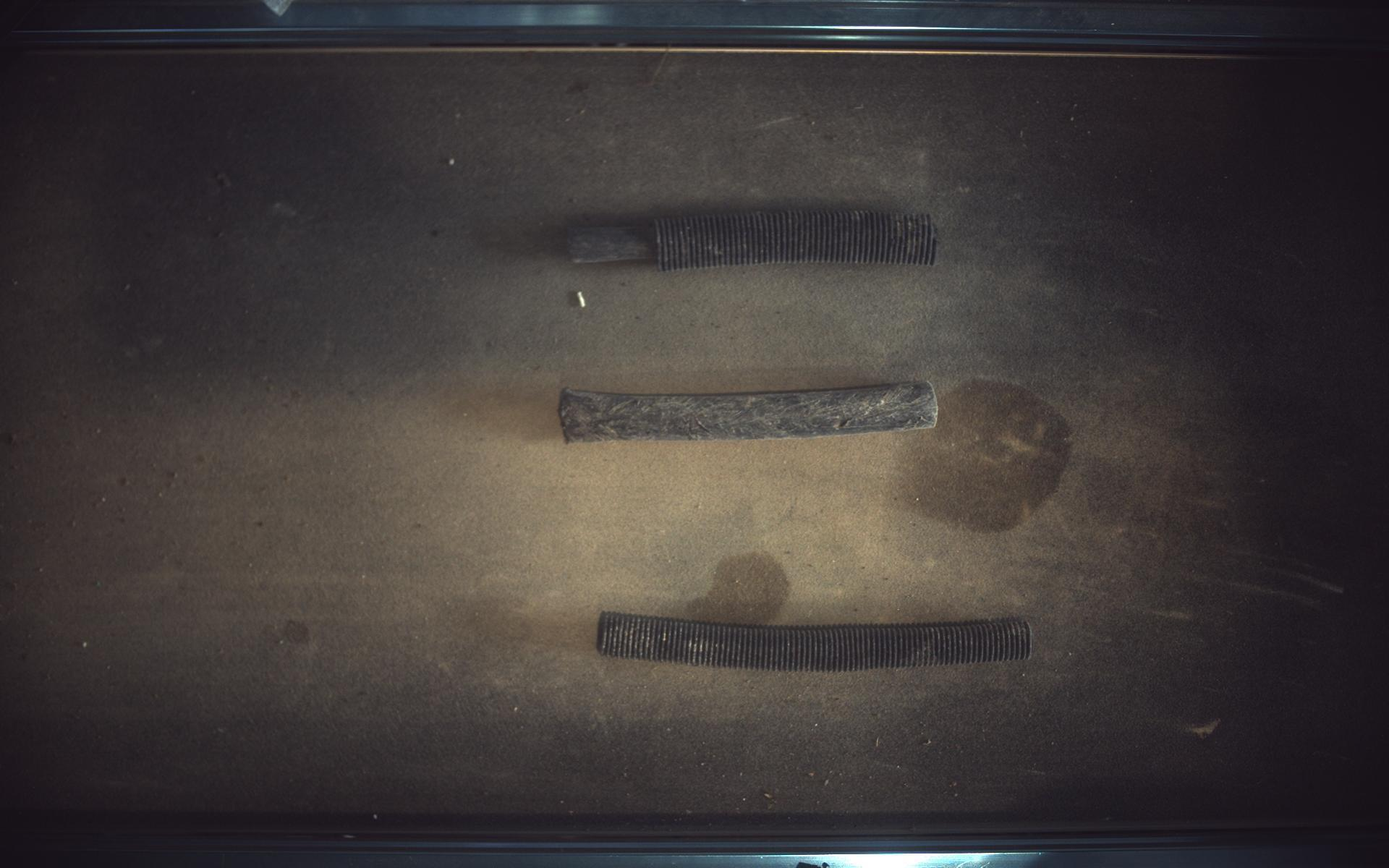pipes: (598, 612, 1035, 673), (559, 381, 940, 443), (569, 210, 938, 271)
